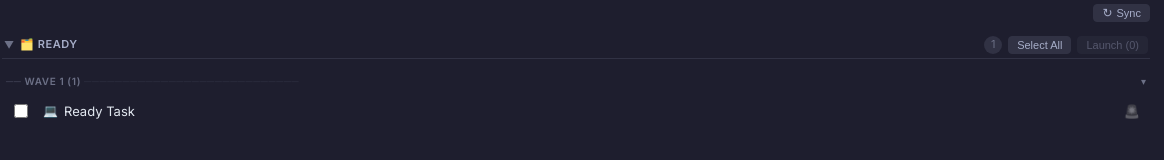
Test case: TaskList › clicking Ready group header toggles aria-expanded between true and false
Click the button with test id "group-header-ready".
click(49, 44)  # box [2,32,1150,59]
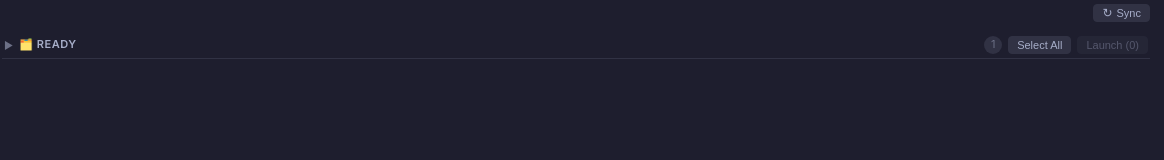
Expected: the button with test id "group-header-ready" is collapsed
Click the button with test id "group-header-ready".
click(48, 44)  # box [2,32,1150,59]
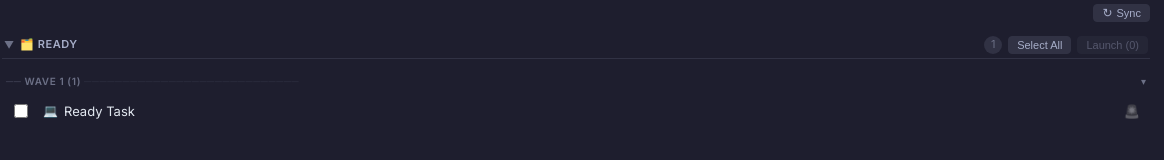
Expected: the button with test id "group-header-ready" is expanded, [2,32,1150,59]
